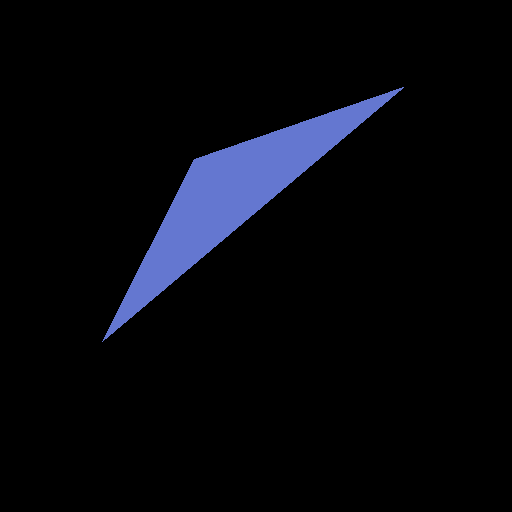triangle: (102, 87, 403, 341)
